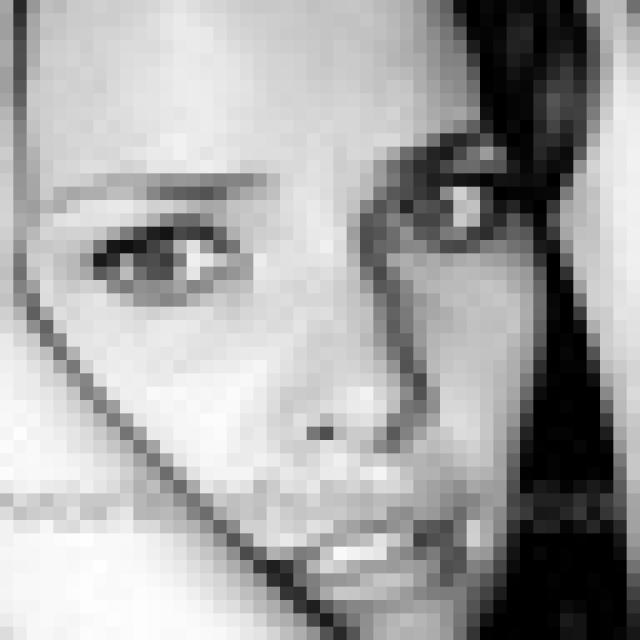fear: (29, 127, 510, 618)
